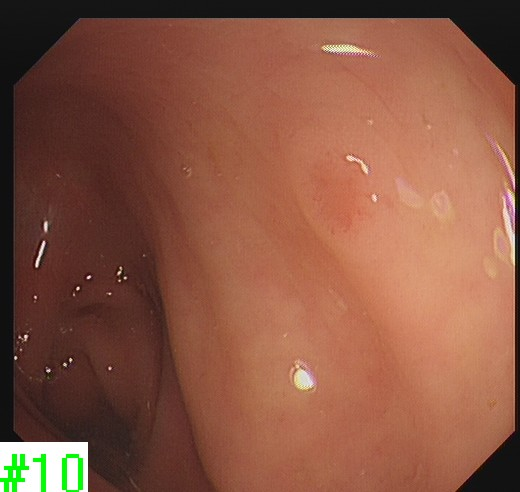others: (282, 105, 412, 271)
